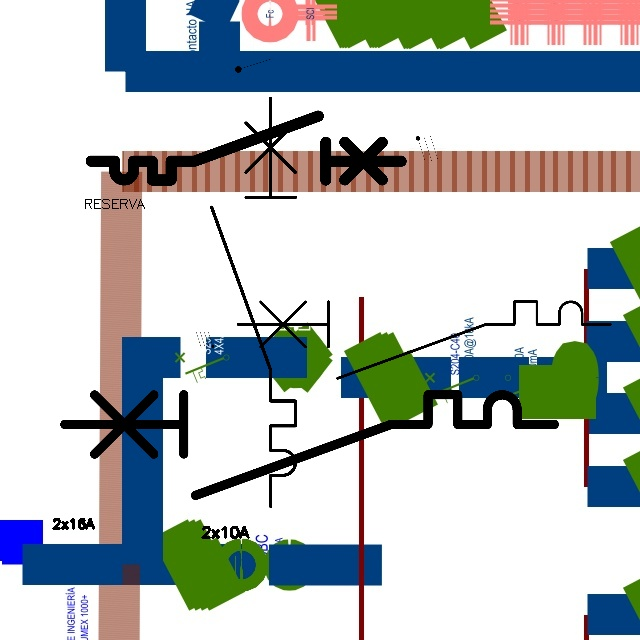interruptor_termomagnetico: (52, 382, 567, 508), (201, 87, 306, 516), (228, 292, 620, 388), (83, 108, 409, 188)
